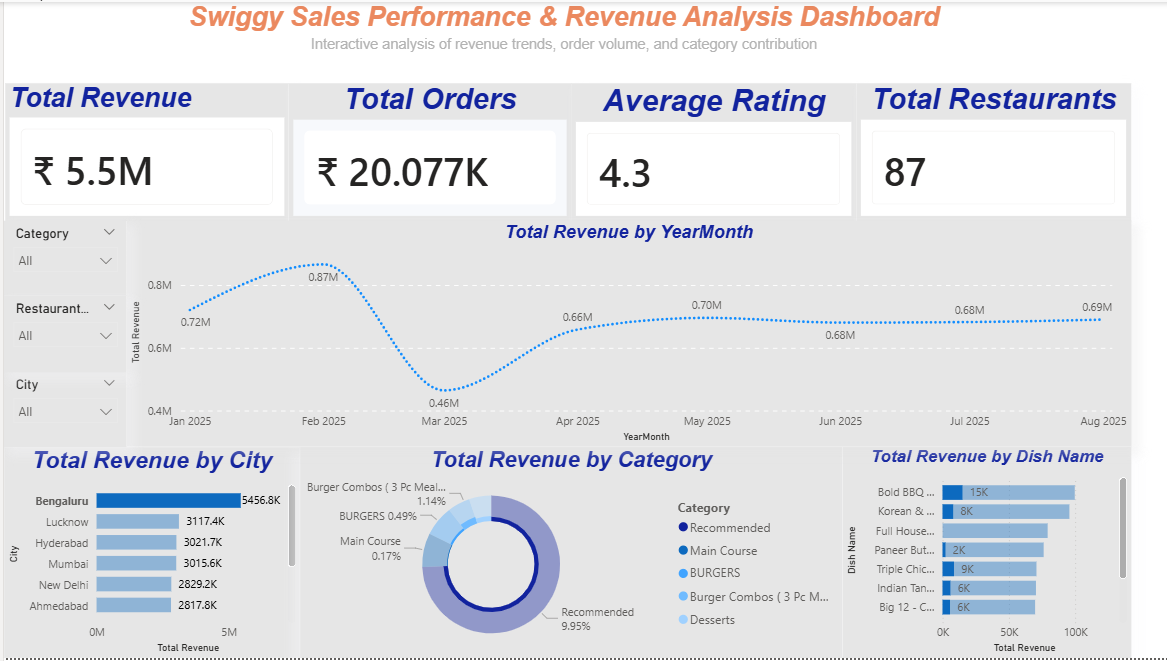

This screenshot's page, from the dashboard's own definition file:
{"tool":"powerbi","page":{"name":"Page 1","canvas":[1280,720],"ordinal":0},"visuals":[{"type":"cardVisual","title":"Total Revenue","fields":{"Data":["Table1.Total Revenue"]},"box":[1.4,89.2,311.5,150.9],"z":0},{"type":"cardVisual","title":"Total Orders ","fields":{"Data":["Data Table.Total Orders"]},"box":[312.9,89.2,310.1,150.9],"z":1000},{"type":"cardVisual","title":"Average Rating","fields":{"Data":["Data Table.Average Rating"]},"box":[623,89.2,312.9,150.9],"z":2000},{"type":"cardVisual","title":"Total Restaurants","fields":{"Data":["Data Table.Total Restaurents"]},"box":[935.9,89.2,301.9,150.9],"z":3000},{"type":"clusteredBarChart","fields":{"Category":["Table1.City"],"Y":["Table1.Total Revenue"]},"box":[0,488.5,325.2,231.9],"z":4000},{"type":"donutChart","fields":{"Category":["Table1.Category"],"Y":["Table1.Total Revenue"]},"box":[325.2,488.5,595.5,231.9],"z":5000},{"type":"clusteredBarChart","fields":{"Category":["Table1.Dish Name"],"Y":["Table1.Total Revenue"]},"box":[920.8,488.5,317,231.9],"z":6000},{"type":"lineChart","fields":{"Y":["Table1.Total Revenue"],"Category":["Data Table.YearMonth"]},"box":[134.5,240.1,1103.3,248.4],"z":7000},{"type":"slicer","fields":{"Values":["Table1.City"]},"box":[0,406.2,134.5,82.3],"z":8000},{"type":"slicer","fields":{"Values":["Table1.Category"]},"box":[0,240.1,134.5,82.3],"z":9000},{"type":"slicer","fields":{"Values":["Table1.Restaurant Name"]},"box":[0,322.5,134.5,83.7],"z":10000},{"type":"textbox","title":"Swiggy Sales Performance & Revenue Analysis Dashboard","box":[1.4,0,1226.8,86.4],"z":11000}]}

Visuals, with their boxes in screenshot pixels (x1, y1, x2, y2), scaled from the page's 1280x720 canvas onto the 1167x661 screenshot:
"Total Revenue" cardVisual: rect(1, 82, 285, 220)
"Total Orders " cardVisual: rect(285, 82, 568, 220)
"Average Rating" cardVisual: rect(568, 82, 853, 220)
"Total Restaurants" cardVisual: rect(853, 82, 1129, 220)
clusteredBarChart - Table1.City x Table1.Total Revenue: rect(0, 448, 296, 660)
donutChart - Table1.Category x Table1.Total Revenue: rect(296, 448, 839, 660)
clusteredBarChart - Table1.Dish Name x Table1.Total Revenue: rect(840, 448, 1129, 660)
lineChart - Table1.Total Revenue x Data Table.YearMonth: rect(123, 220, 1129, 448)
slicer - Table1.City: rect(0, 373, 123, 448)
slicer - Table1.Category: rect(0, 220, 123, 296)
slicer - Table1.Restaurant Name: rect(0, 296, 123, 373)
"Swiggy Sales Performance & Revenue Analysis Dashboard" textbox: rect(1, 0, 1120, 79)
